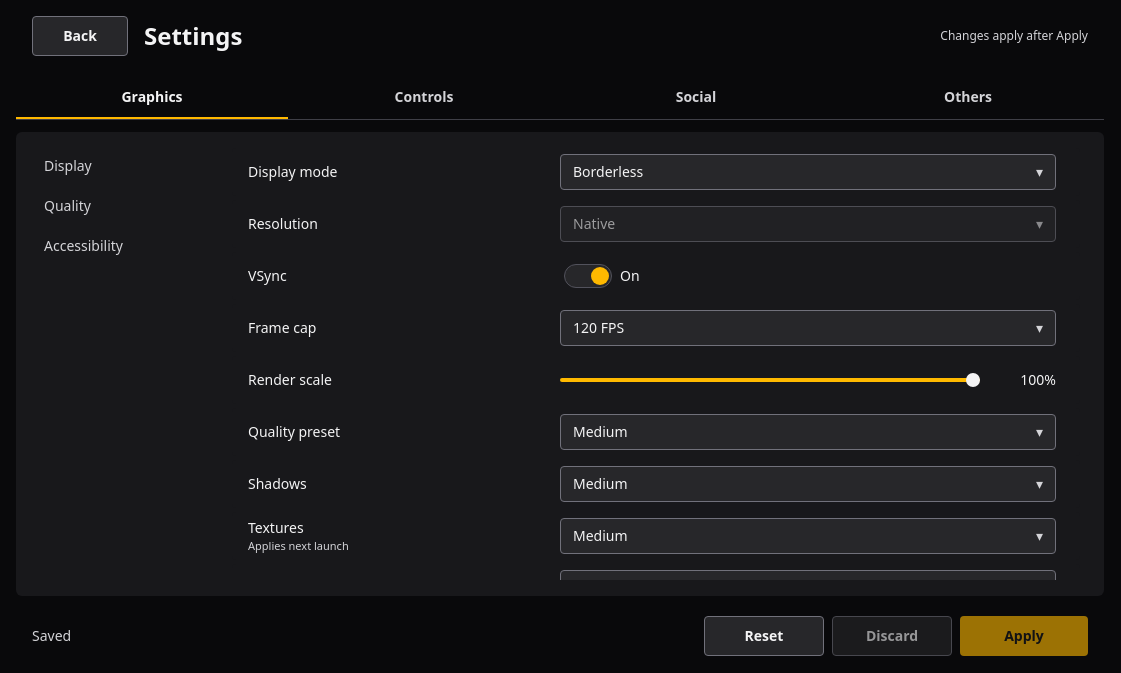
Test case: SettingsScreen › an active display preview shows the dialog and locks the screen until the host clears it
This screenshot has width=1121, height=673.
Later steps or results of the test are not shown.
Click the switch named "VSync" at (606,276), box [560,258,652,294]
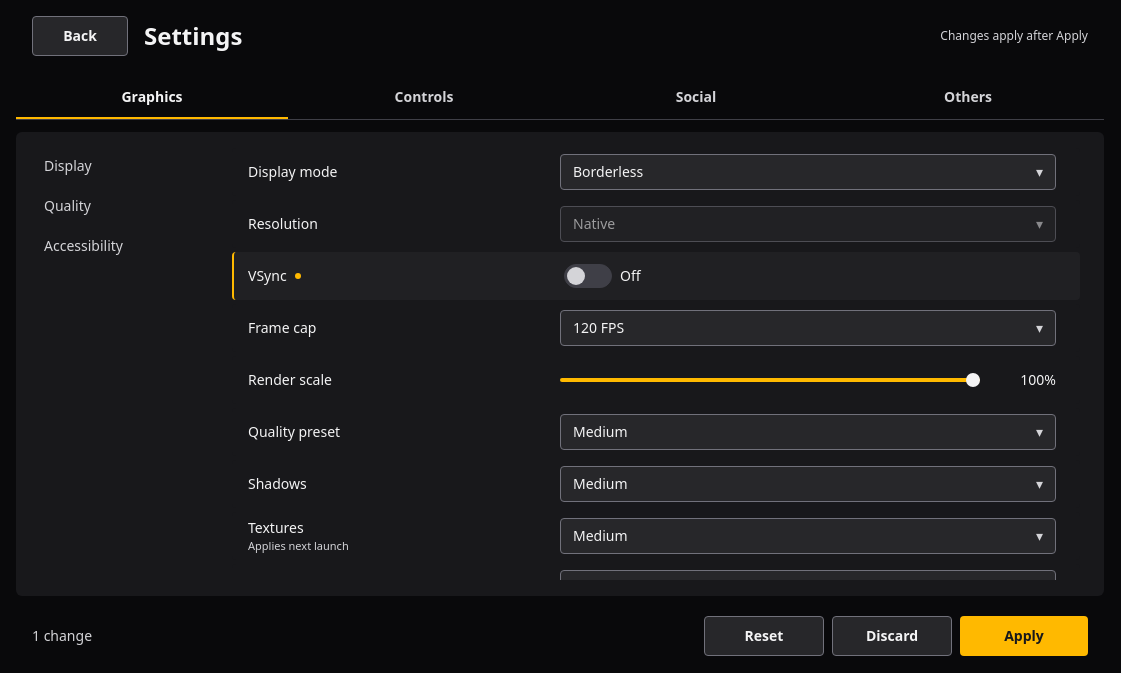
Now the button "Apply" is enabled, box [960,616,1088,656]
